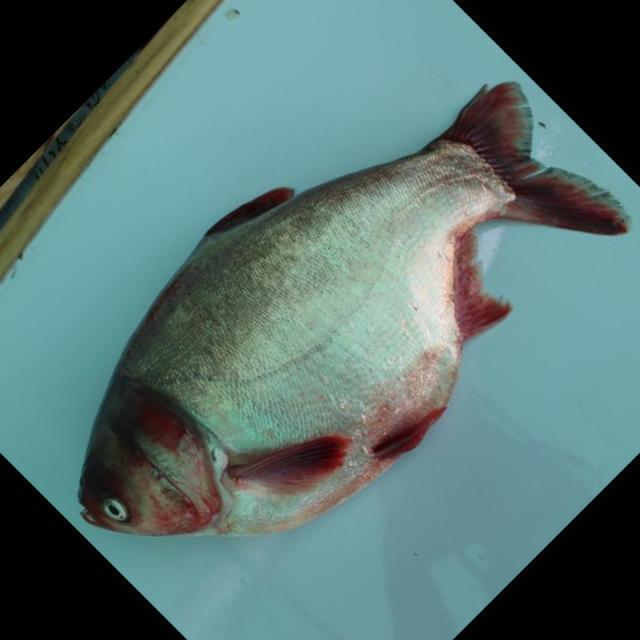SilverCarp: (45, 99, 611, 544)
